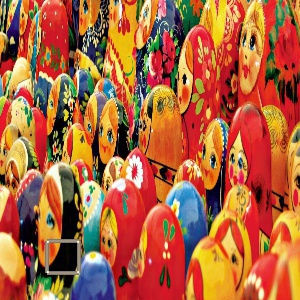square: (44, 238, 81, 276)
